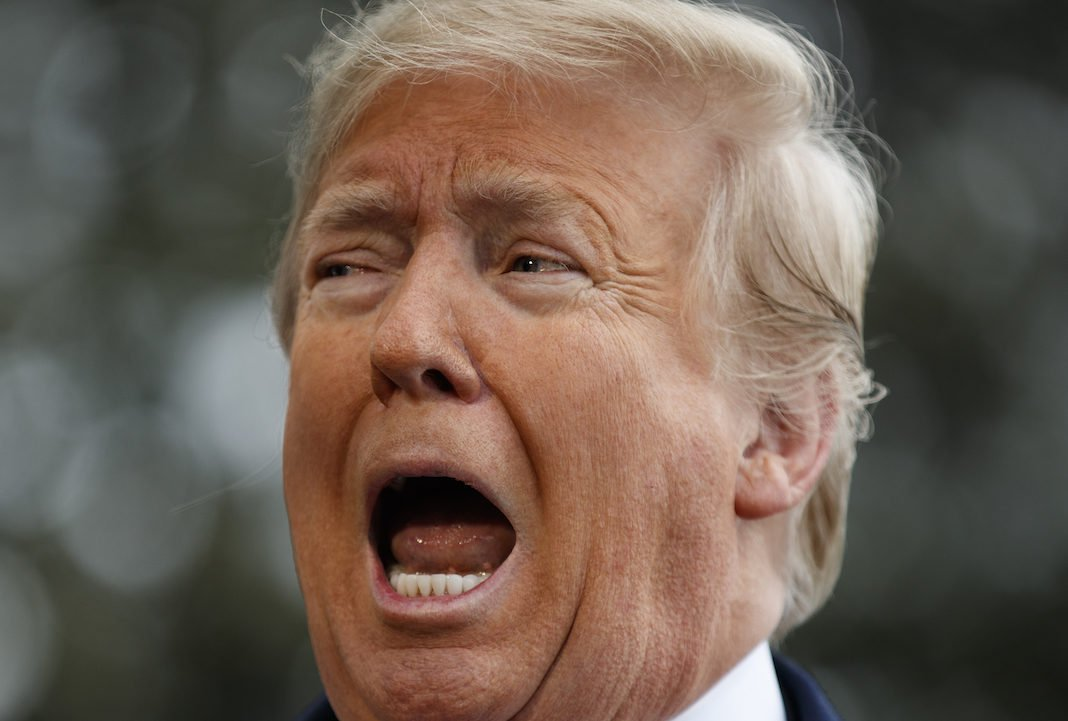noMask: (247, 10, 862, 700)
